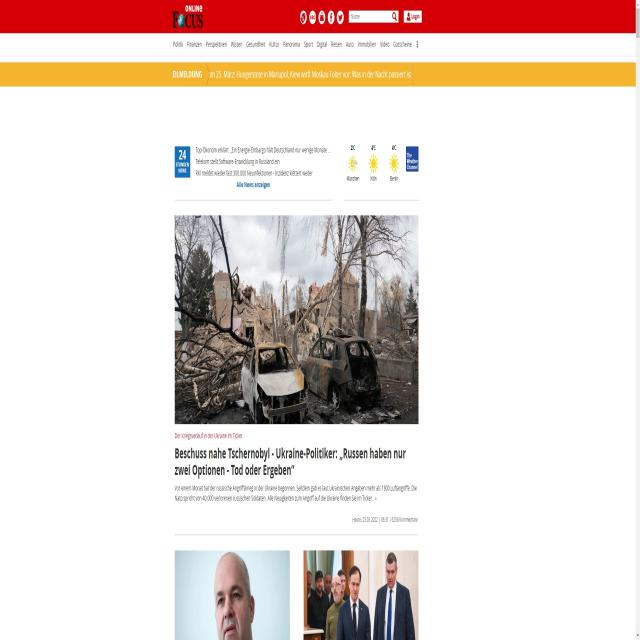search: (348, 8, 398, 24)
tab-bar: (171, 35, 421, 57), (298, 7, 346, 27)
